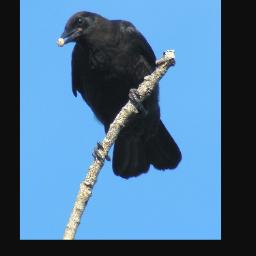Crow: (56, 10, 183, 181)
